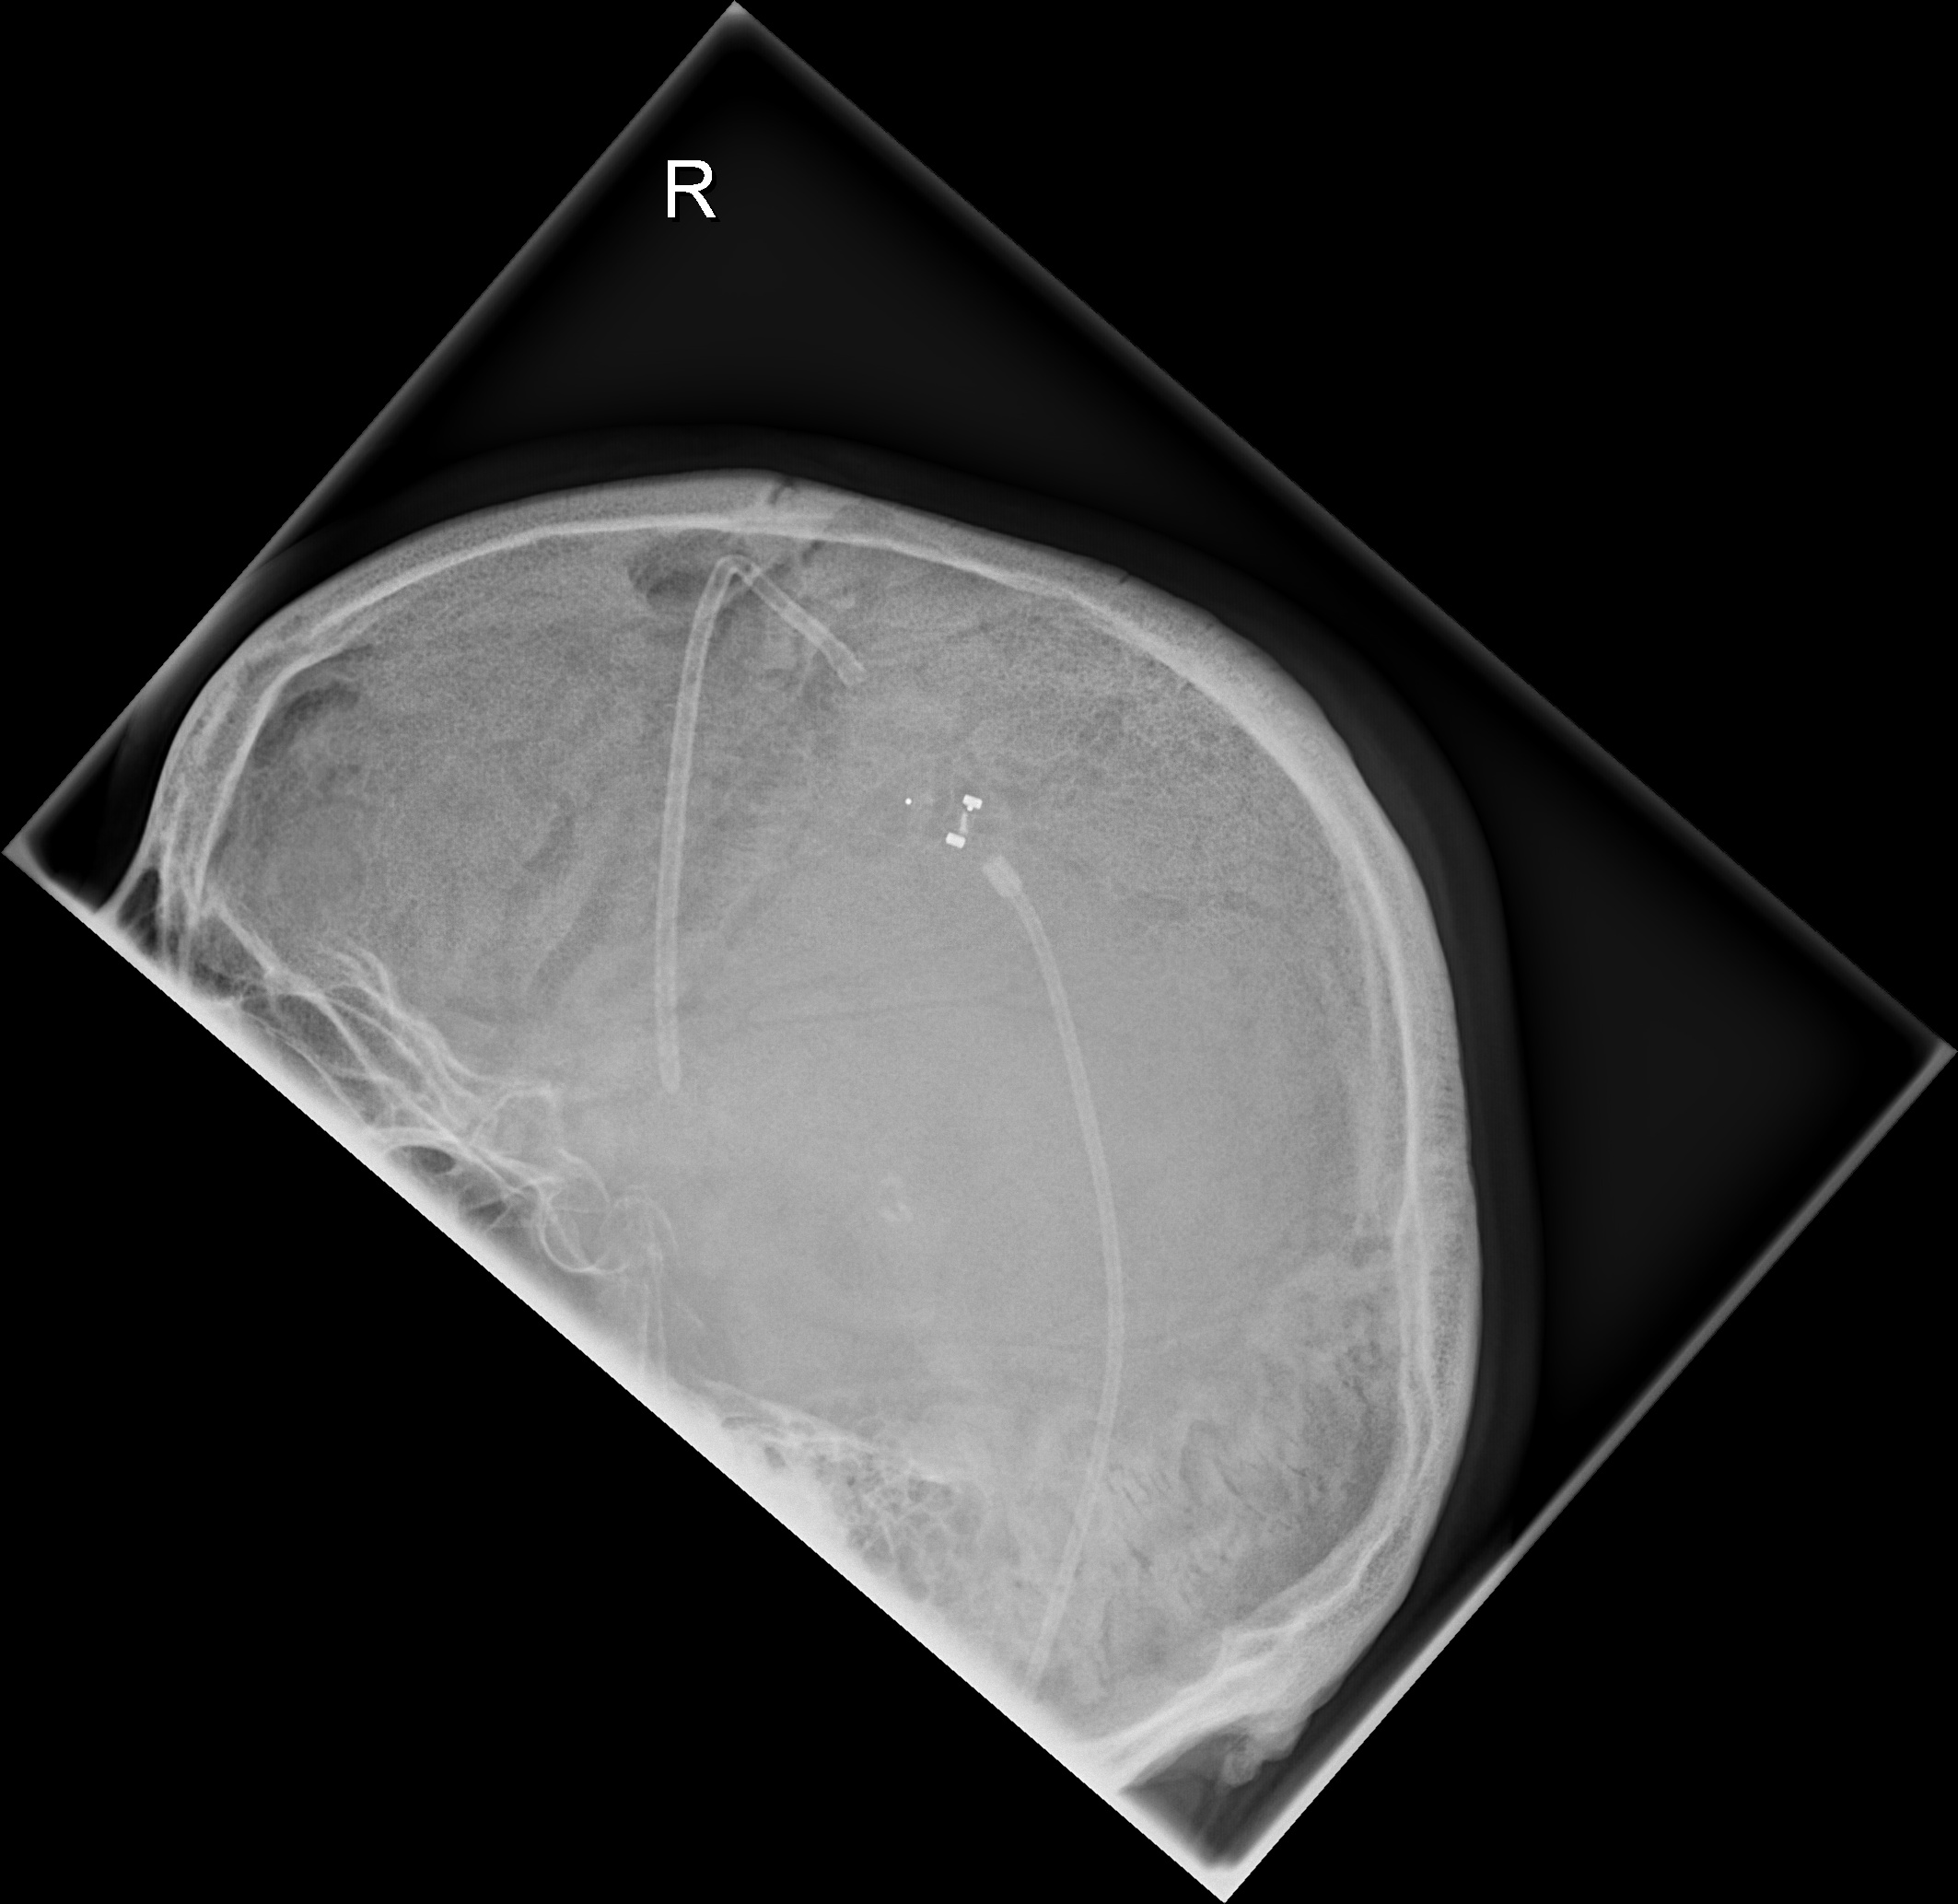Codman Certas: (883, 761, 1030, 876)
